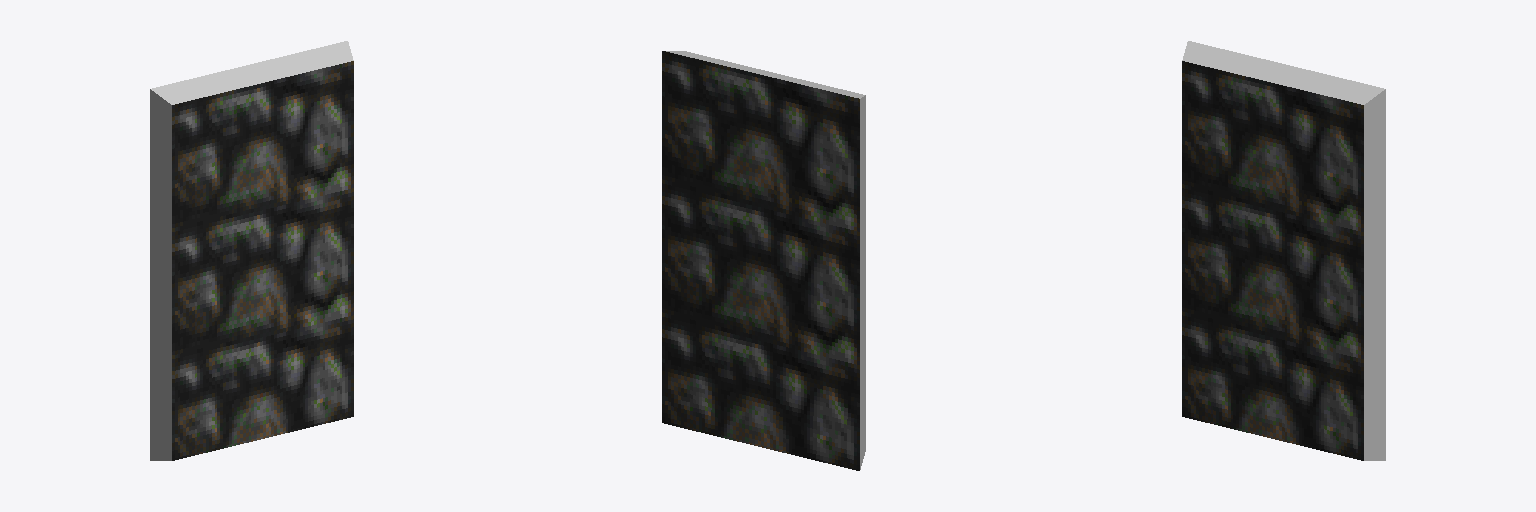
The picture shows the model from 3 angles: view 1: azimuth 30°, elevation 25°; view 2: azimuth 150°, elevation 25°; view 3: azimuth 330°, elevation 25°; orthographic projection.
Visible parts, largest first — view 1: model55012-node_model55012.001; view 2: model55012-node_model55012.001; view 3: model55012-node_model55012.001.
Boxes of the visible parts, box(x1,y1,x2,y2) form: model55012-node_model55012.001: box(150, 41, 353, 460); model55012-node_model55012.001: box(662, 51, 865, 470); model55012-node_model55012.001: box(1182, 41, 1385, 460).
Size of the model in its own units: 50 by 90 by 6.
Materials: 2 (1 with a texture image).